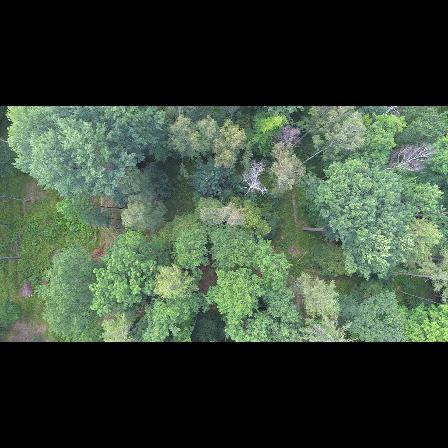Dead: (385, 143, 437, 176), (240, 158, 271, 197), (301, 141, 337, 167), (274, 125, 301, 150)
